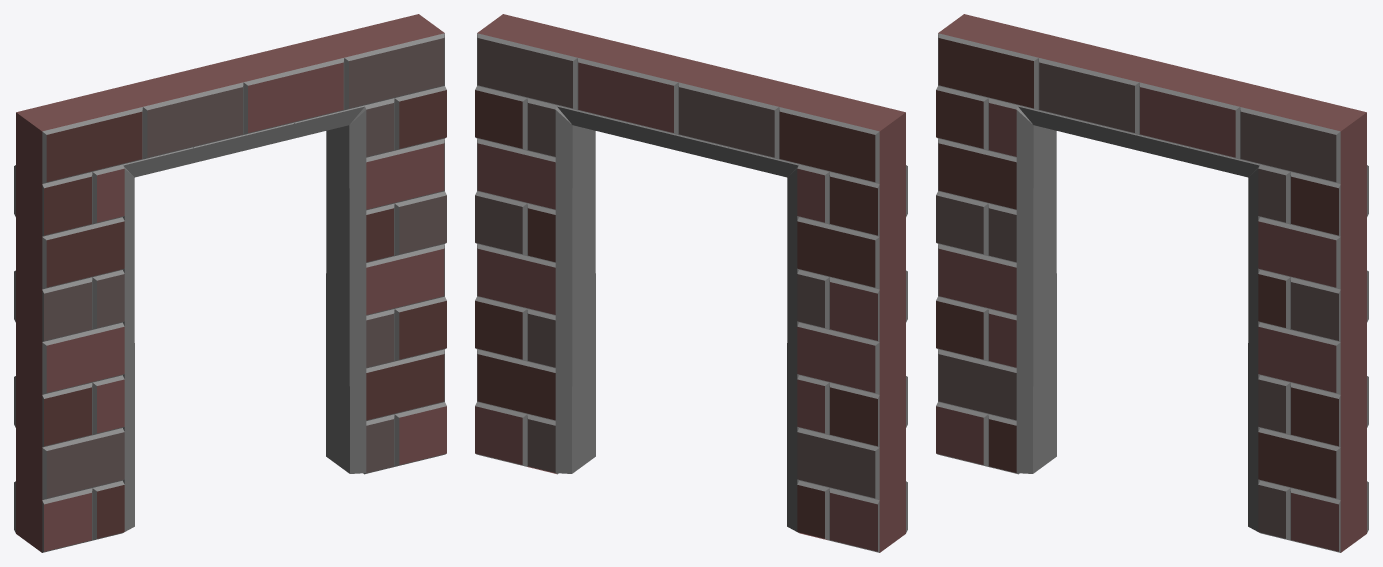
Rendered from steampunk_wall_brick_door.fbx.
3 renders of one model, left to right at view 1: azimuth 30°, elevation 25°; view 2: azimuth 150°, elevation 25°; view 3: azimuth 330°, elevation 25°, orthographic.
Visible parts, largest first — view 1: Cube.002; view 2: Cube.002; view 3: Cube.002.
Boxes of the visible parts, <box> form: Cube.002: <box>14,14,446,552</box>; Cube.002: <box>475,14,907,552</box>; Cube.002: <box>936,14,1368,552</box>.
Bounding box in the file's own units: 3 × 3 × 0.389.
